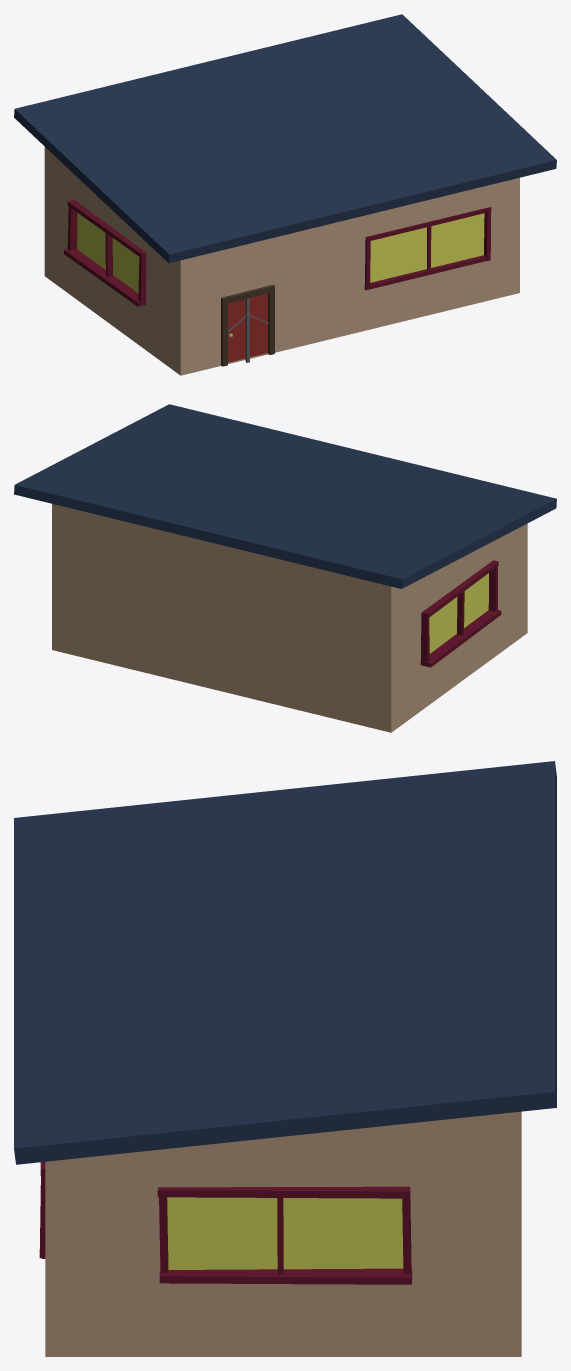
The model's file is House9.fbx.
3 renders of one model, top to bottom at view 1: azimuth 30°, elevation 25°; view 2: azimuth 150°, elevation 25°; view 3: azimuth 270°, elevation 25°, orthographic. The views are drawn at different scales.
Parts seen in each view (by area): view 1: Cube.052, Cube, Cube.003, Cube.001, Cube.074, Cube.054, Cube.064, Cube.053, Cube.063, Cube.068; view 2: Cube, Cube.052, Cube.001, Cube.054, Cube.053; view 3: Cube.052, Cube, Cube.002, Cube.059, Cube.058.
Part boxes in pixels (left/top/right/bottom): Cube.052: left=14, top=14, right=556, bottom=263; Cube: left=44, top=147, right=519, bottom=375; Cube.003: left=370, top=213, right=484, bottom=282; Cube.001: left=77, top=213, right=139, bottom=293; Cube.074: left=228, top=293, right=267, bottom=362; Cube.054: left=64, top=249, right=145, bottom=306; Cube.064: left=364, top=255, right=486, bottom=289; Cube.053: left=67, top=200, right=146, bottom=258; Cube.063: left=365, top=207, right=491, bottom=240; Cube.068: left=221, top=298, right=227, bottom=366; Cube: left=52, top=504, right=527, bottom=732; Cube.052: left=14, top=404, right=556, bottom=588; Cube.001: left=429, top=573, right=488, bottom=653; Cube.054: left=420, top=610, right=501, bottom=667; Cube.053: left=421, top=560, right=498, bottom=618; Cube.052: left=14, top=761, right=556, bottom=1164; Cube: left=45, top=1111, right=521, bottom=1356; Cube.002: left=167, top=1197, right=403, bottom=1269; Cube.059: left=159, top=1268, right=412, bottom=1284; Cube.058: left=157, top=1186, right=410, bottom=1198.
Bounding box in the file's own units: 1401 × 576 × 972.
